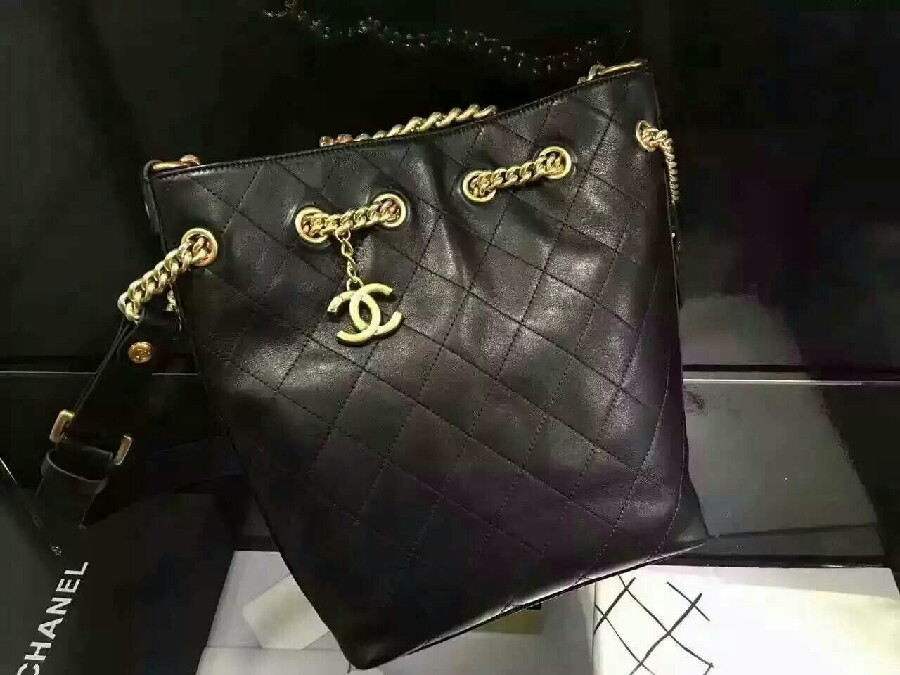channel: (157, 119, 733, 629), (463, 255, 644, 564), (458, 132, 592, 213), (323, 265, 424, 354)
